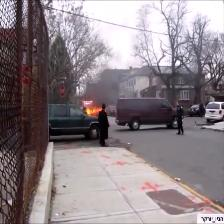fire: (78, 102, 104, 116)
